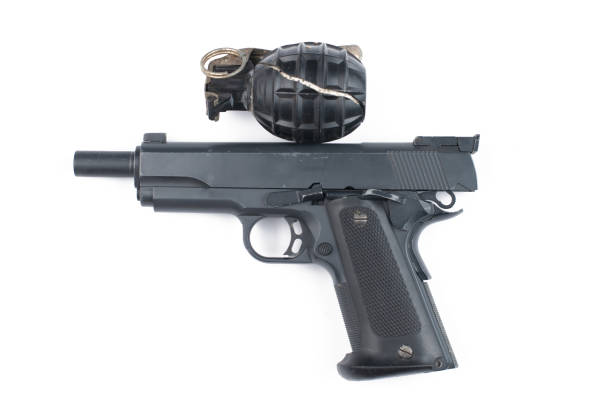e1: (199, 35, 370, 144)
